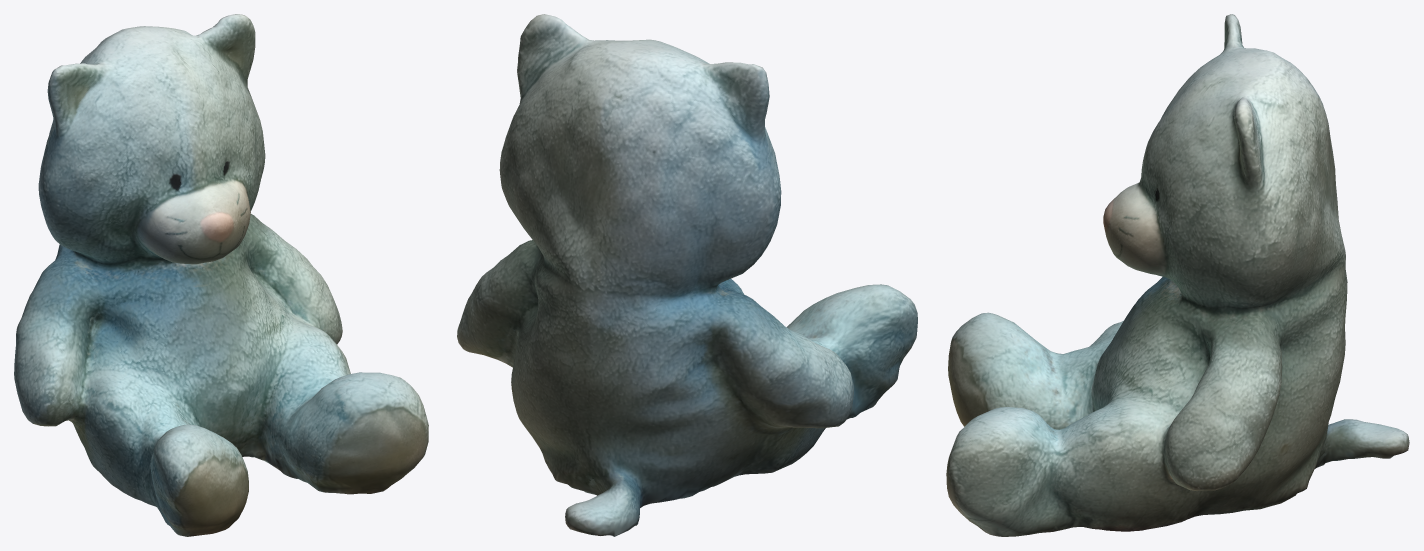
Rendered from stuff_Bear.glb.
3 renders of one model, left to right at view 1: azimuth 30°, elevation 25°; view 2: azimuth 150°, elevation 25°; view 3: azimuth 270°, elevation 25°, orthographic. The views are drawn at different scales.
Visible parts, largest first — view 1: Object_2; view 2: Object_2; view 3: Object_2.
Part boxes in pixels (x1,y1,x2,y2): Object_2: (14,14,428,536); Object_2: (457,14,917,536); Object_2: (946,14,1409,536).
Size of the model in its own units: 1.11 by 1.27 by 1.28.
Materials: 1 (1 with a texture image).
